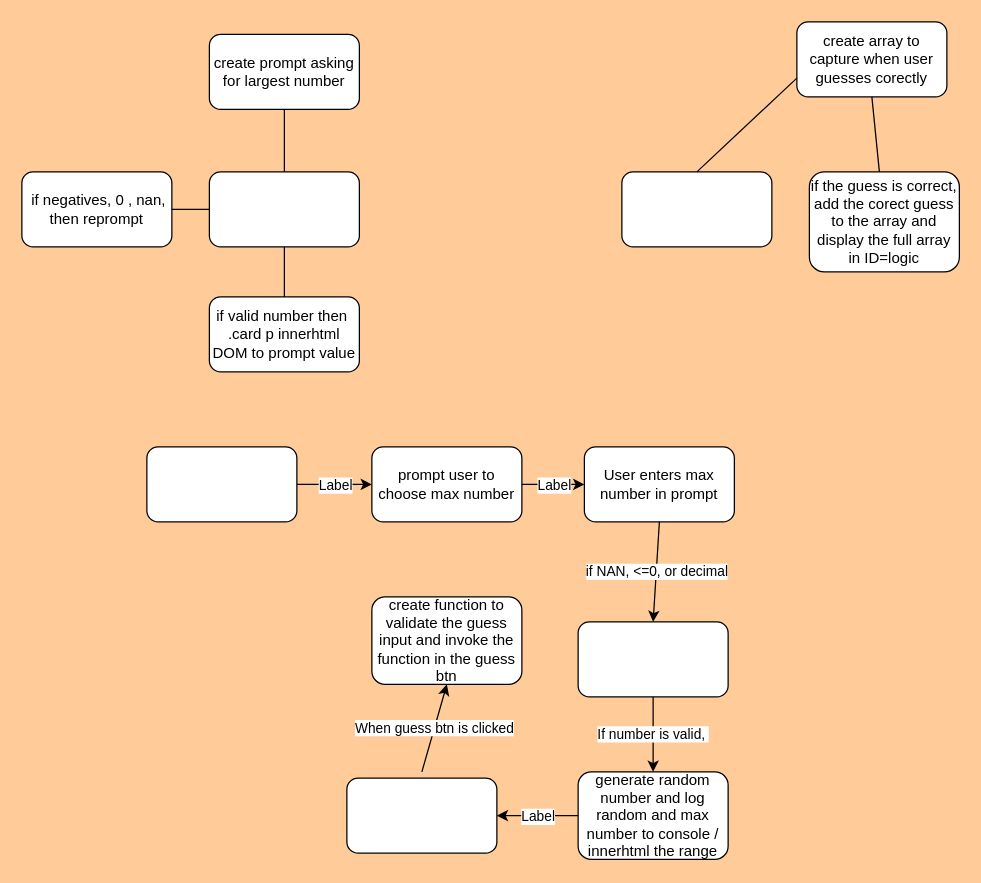
This 981x883 diagram has some shape labels left out. Each missing label, with the centre of its shape:
if guess is incorrect add the guess to the array: point 696,209
User inputs their guess: point 421,815
User opens app: point 221,484
Validate users input and prompt accordingly. Round decimal: point 652,659
while loop validation checking for positive number, rounded decimal: point 283,209
